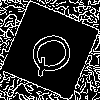Q: (25, 25, 84, 80)
